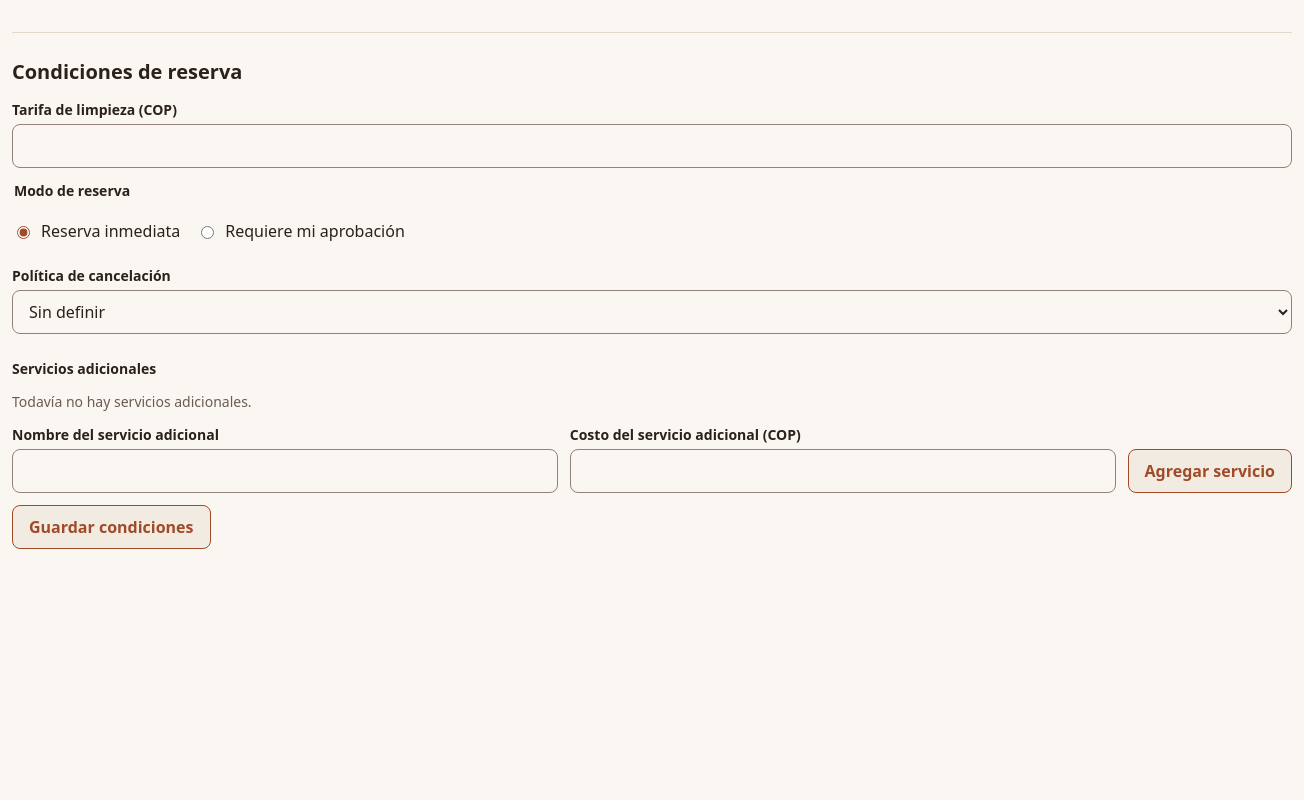
Test case: ConfiguracionPublicacion › no guarda una tarifa con formato inválido
The width and height of the screenshot is (1304, 800).
Type "-100" into the field labelled "Tarifa de limpieza (COP)" at (652, 146), box [12,124,1292,168]
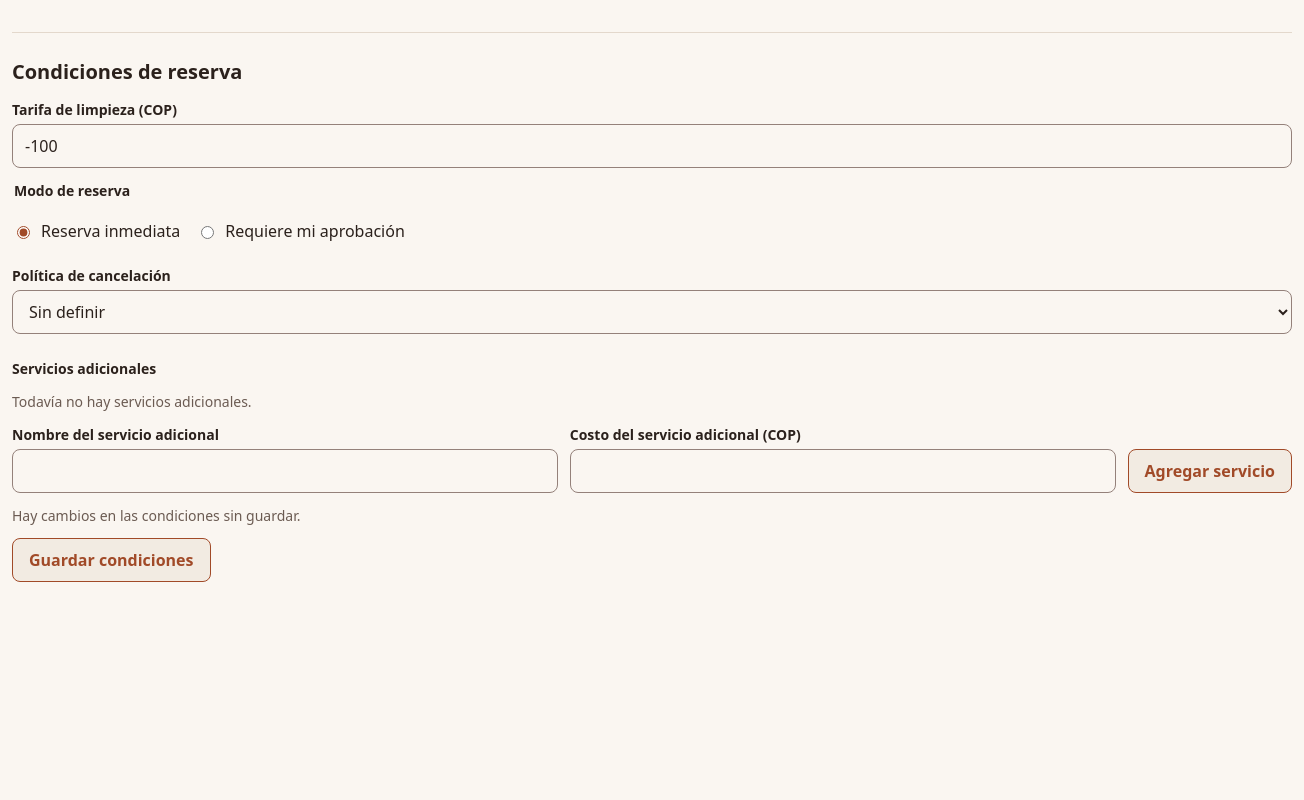
Click the button "Guardar condiciones" at (111, 560), box [12,538,210,582]
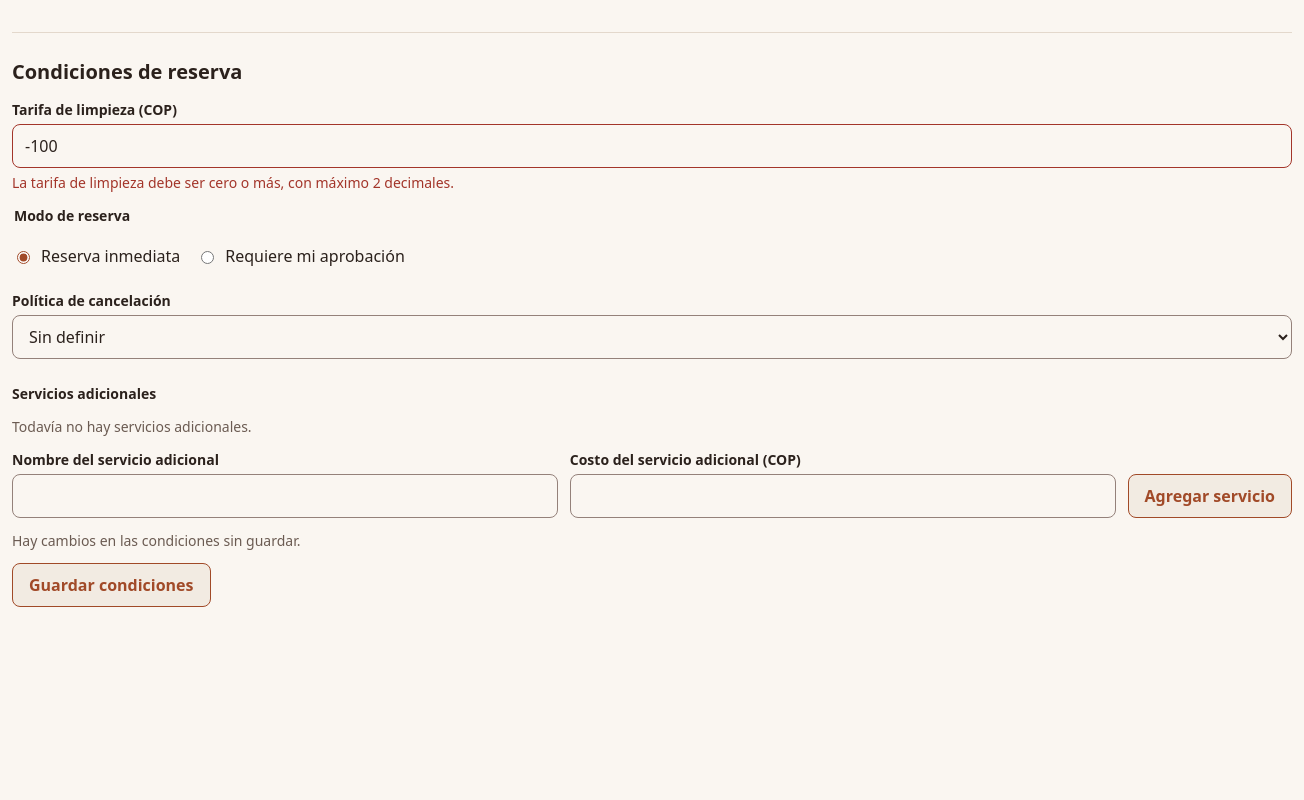
Expected: the text "La tarifa de limpieza debe ser cero o más, con máximo 2 decimales." is shown, [12,173,454,192]
